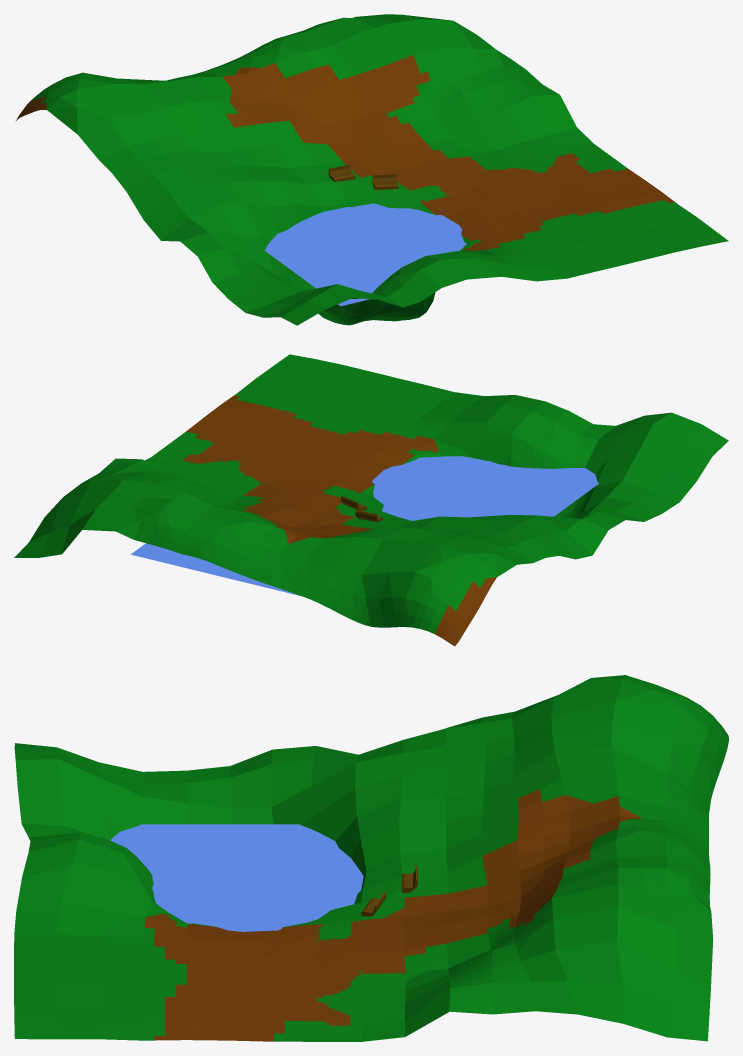
Rendered from park.fbx.
The picture shows the model from 3 angles, top to bottom: view 1: azimuth 30°, elevation 25°; view 2: azimuth 150°, elevation 25°; view 3: azimuth 270°, elevation 25°; orthographic projection. The views are drawn at different scales.
Parts seen in each view (by area): view 1: Plane, Plane.001, water; view 2: Plane, Plane.001, water; view 3: Plane, Plane.001, water.
Part boxes in pixels (<box>): Plane: <box>78,94,728,325</box>; Plane.001: <box>16,14,559,144</box>; water: <box>264,203,466,306</box>; Plane: <box>145,354,728,564</box>; Plane.001: <box>14,458,516,646</box>; water: <box>131,456,598,596</box>; Plane: <box>14,695,557,1041</box>; Plane.001: <box>449,675,728,1041</box>; water: <box>110,824,363,931</box>.
Size of the model in its own units: 719 by 245 by 779.
